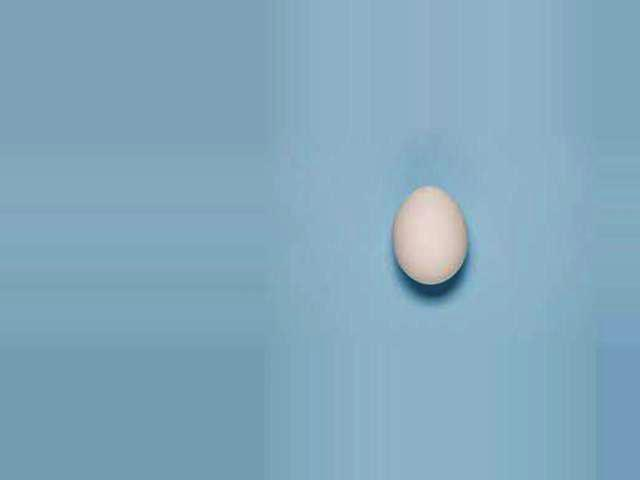egg: (392, 185, 467, 285)
